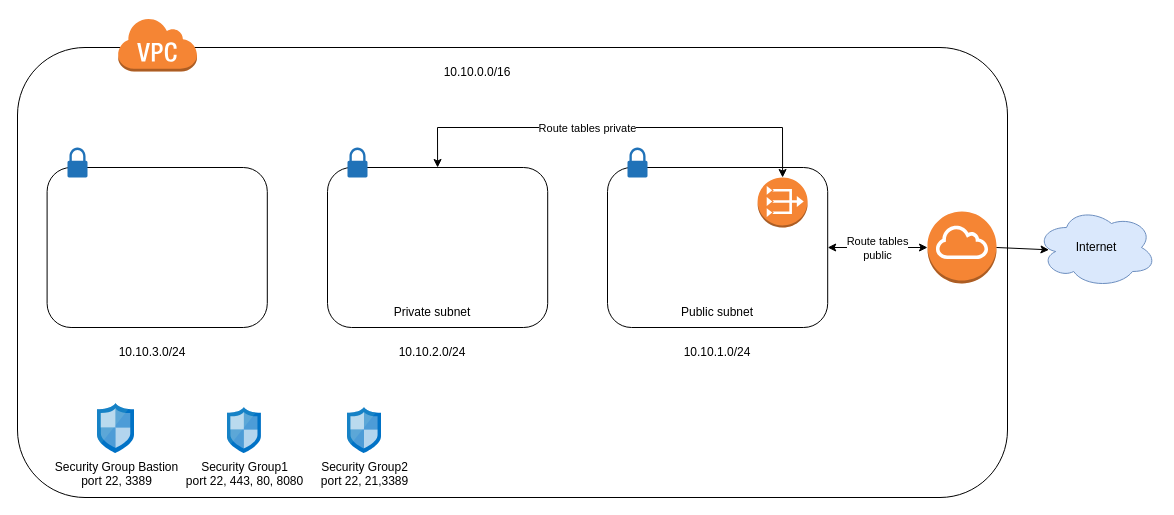
Some shapes in this 1174 by 515 pixel diagram are drawn without their labels. The shapes that lost their labels are listed below. From the top down, each one's box as (x1, y1, x2, y2) in pixels, then its label:
(757, 176, 808, 228): NAT GateWay
(46, 166, 267, 328): Database subnet
(926, 210, 996, 284): Internet GateWay
